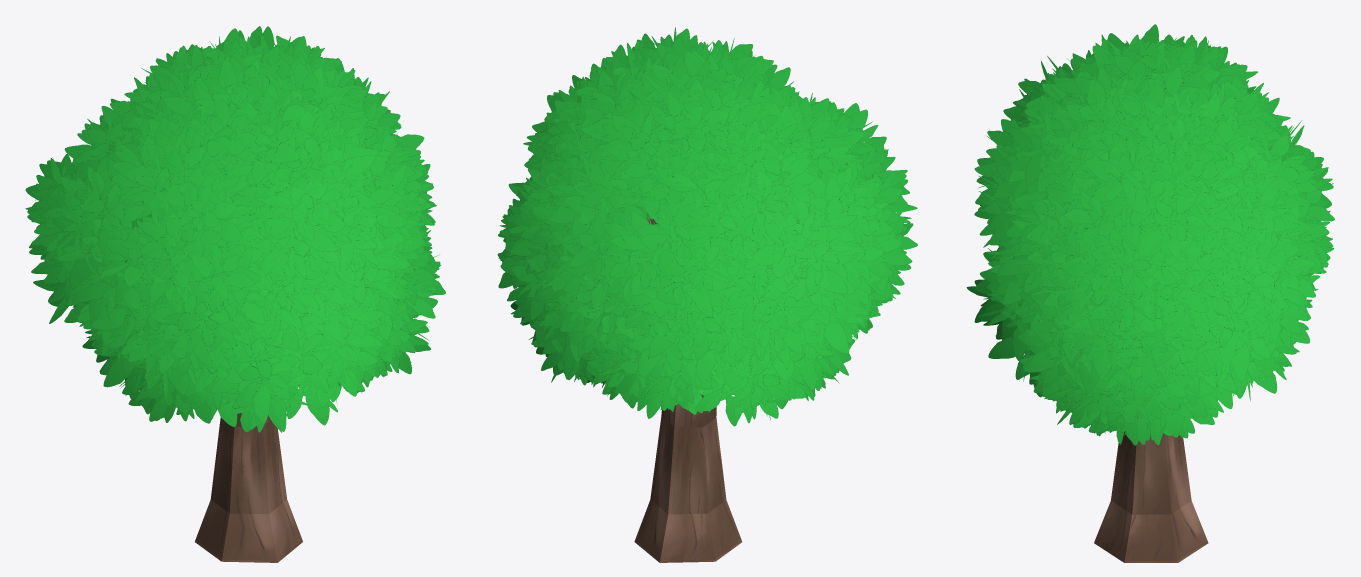
The model's file is treestylized2.fbx.
The picture shows the model from 3 angles, left to right: view 1: azimuth 30°, elevation 25°; view 2: azimuth 150°, elevation 25°; view 3: azimuth 270°, elevation 25°; orthographic projection.
Visible parts, largest first — view 1: Leaves, trunk; view 2: Leaves, trunk; view 3: Leaves, trunk.
Boxes of the visible parts, x1=… form: Leaves: x1=25, y1=26, x2=445, y2=432; trunk: x1=195, y1=391, x2=302, y2=562; Leaves: x1=497, y1=27, x2=917, y2=426; trunk: x1=607, y1=218, x2=742, y2=562; Leaves: x1=966, y1=24, x2=1334, y2=445; trunk: x1=1094, y1=431, x2=1208, y2=562.
Size of the model in its own units: 10.05 by 12.26 by 8.46.
